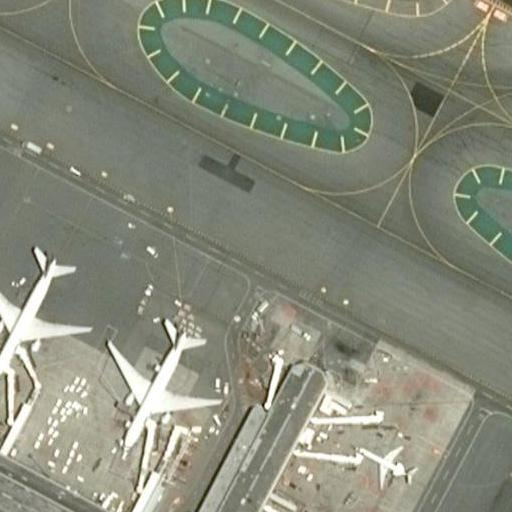Aircraft: (103, 313, 223, 451), (0, 240, 89, 379), (359, 441, 417, 488)
